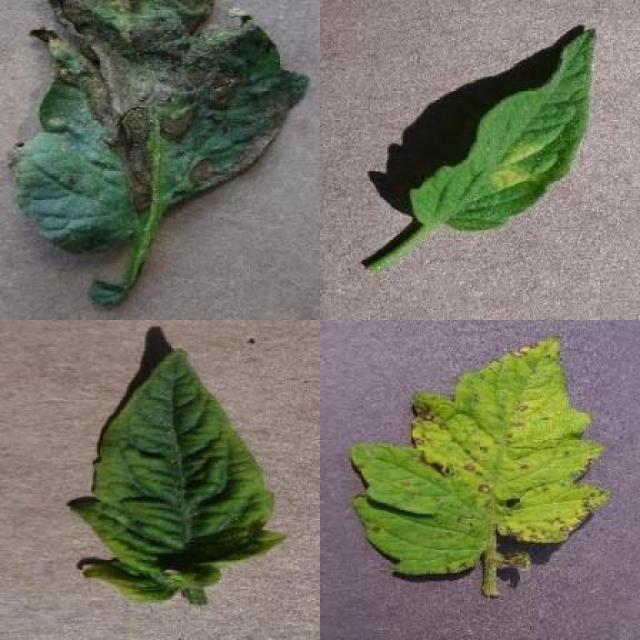Early Blight: (13, 0, 308, 260)
Leaf Mold: (410, 28, 596, 231)
Septoria: (351, 336, 615, 576)
Yellow Leaf Curl Virus: (74, 349, 285, 607)
